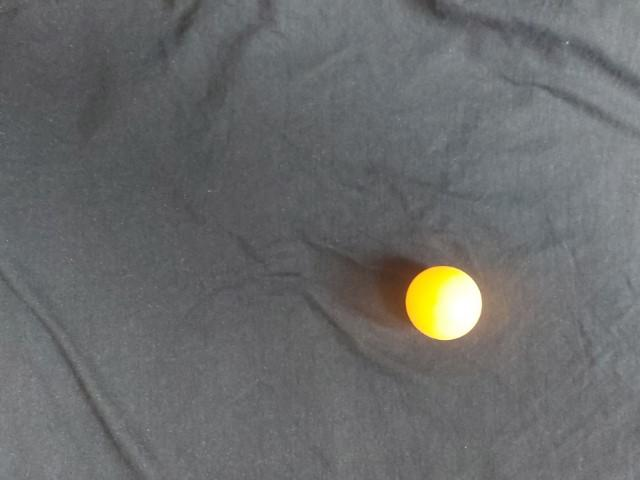oball: (151, 137, 239, 222)
